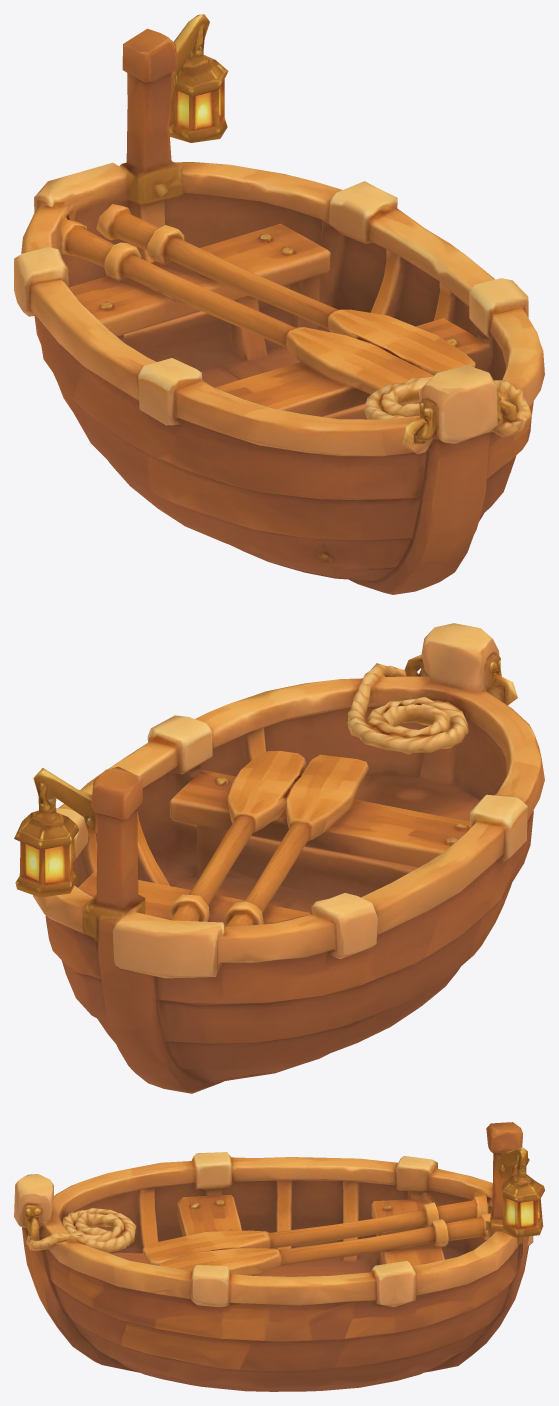
Rendered from skiff.glb.
3 views of the same model, one above another, from view 1: azimuth 30°, elevation 25°; view 2: azimuth 150°, elevation 25°; view 3: azimuth 270°, elevation 25° (orthographic). The views are drawn at different scales.
Parts seen in each view (by area): view 1: tripo_node_70792018-f8ec-4d20-bb04-0790239031ea; view 2: tripo_node_70792018-f8ec-4d20-bb04-0790239031ea; view 3: tripo_node_70792018-f8ec-4d20-bb04-0790239031ea.
Part boxes in pixels (box(x1,y1,x2,y2)): tripo_node_70792018-f8ec-4d20-bb04-0790239031ea: box(14, 14, 544, 594); tripo_node_70792018-f8ec-4d20-bb04-0790239031ea: box(14, 623, 544, 1093); tripo_node_70792018-f8ec-4d20-bb04-0790239031ea: box(14, 1122, 544, 1391).
Size of the model in its own units: 2.33 by 2.16 by 4.
1 material, 1 textured.
